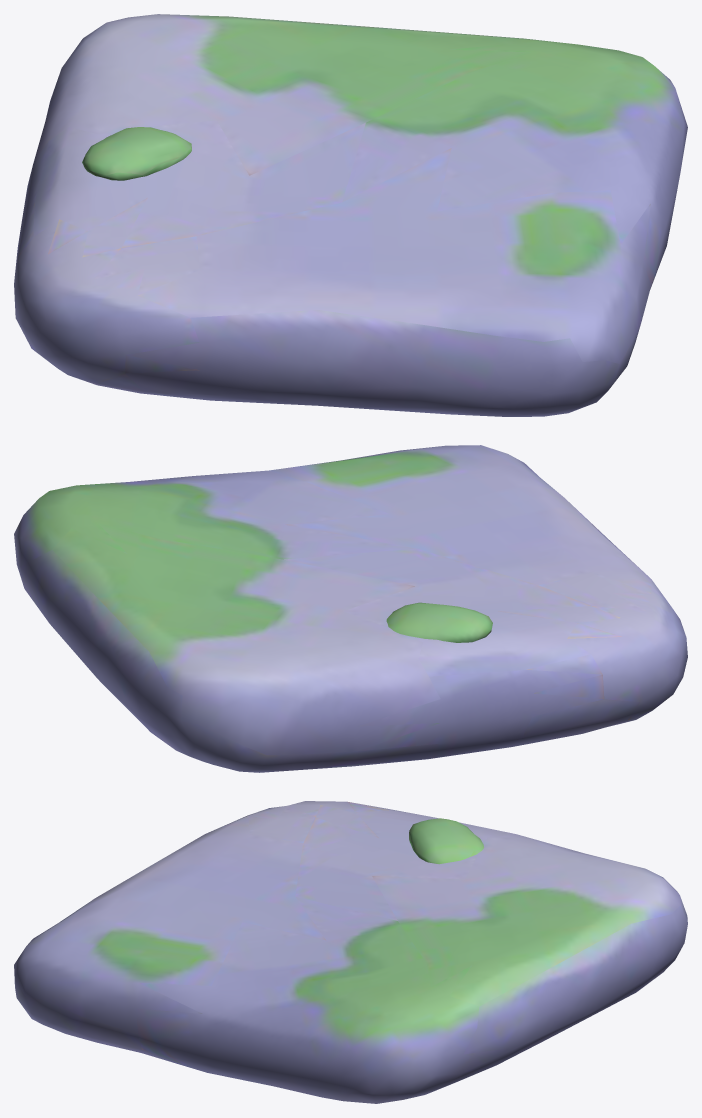
The model's file is losa_musgo.glb.
The picture shows the model from 3 angles, top to bottom: view 1: azimuth 30°, elevation 25°; view 2: azimuth 150°, elevation 25°; view 3: azimuth 270°, elevation 25°; orthographic projection. The views are drawn at different scales.
Parts seen in each view (by area): view 1: reliquia_4; view 2: reliquia_4; view 3: reliquia_4.
Boxes of the visible parts, x1=… form: reliquia_4: x1=14, y1=14, x2=687, y2=416; reliquia_4: x1=14, y1=445, x2=687, y2=772; reliquia_4: x1=14, y1=801, x2=687, y2=1103.
Bounding box in the file's own units: 0.4215 × 0.0902 × 0.4463.
Materials: 1 (1 with a texture image).
